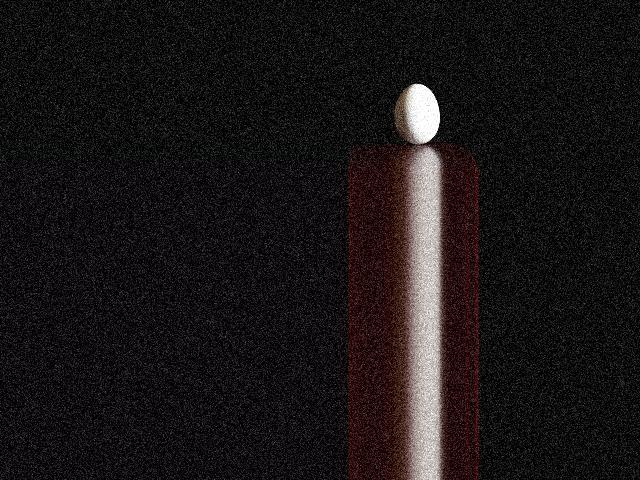egg: (395, 84, 440, 145)
